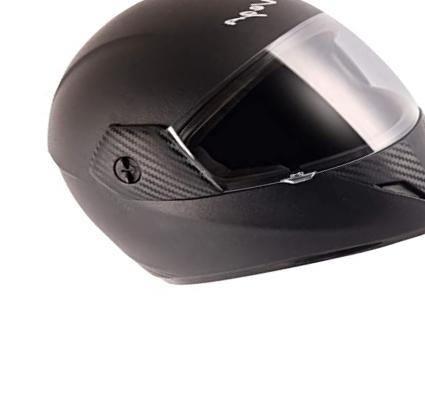helmet: (42, 3, 425, 301)
